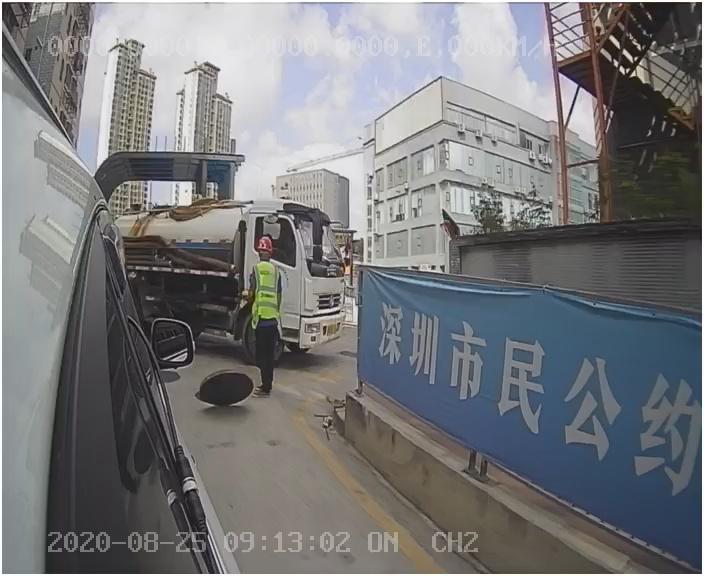person: (243, 236, 289, 399)
